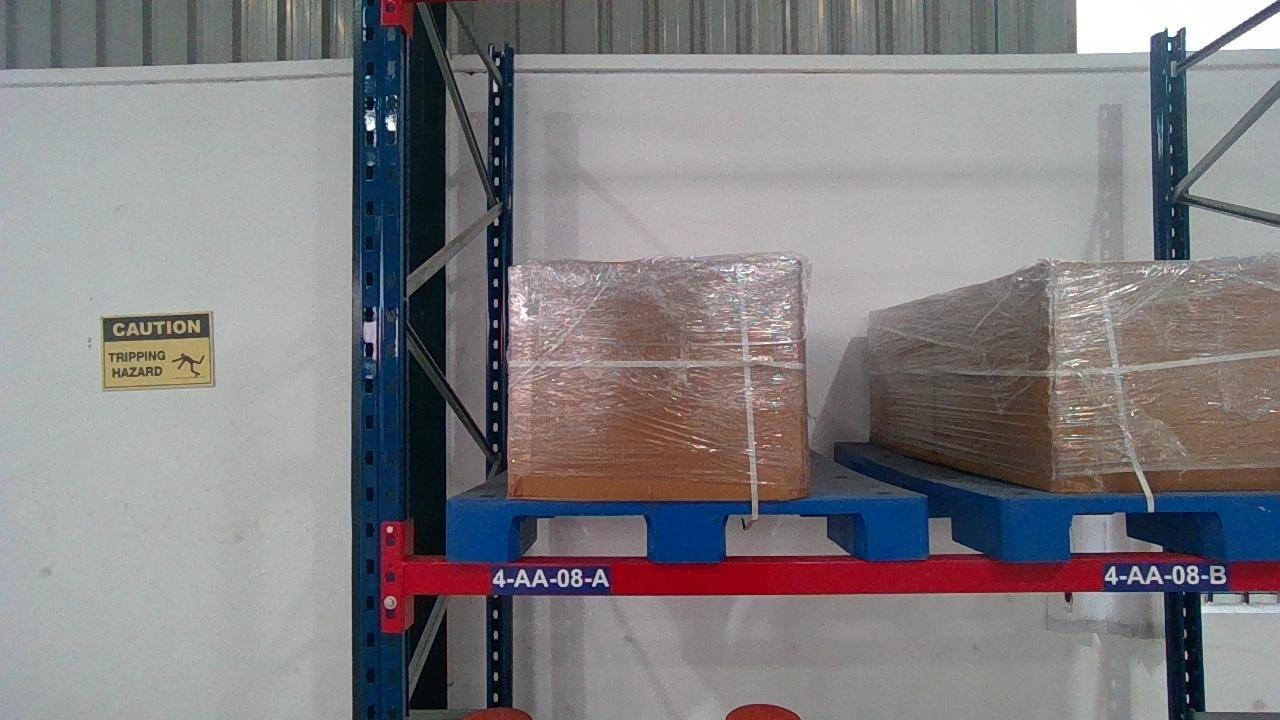h_rack: (407, 557, 1278, 593)
small_pallet: (445, 498, 934, 558), (1004, 494, 1279, 558)
